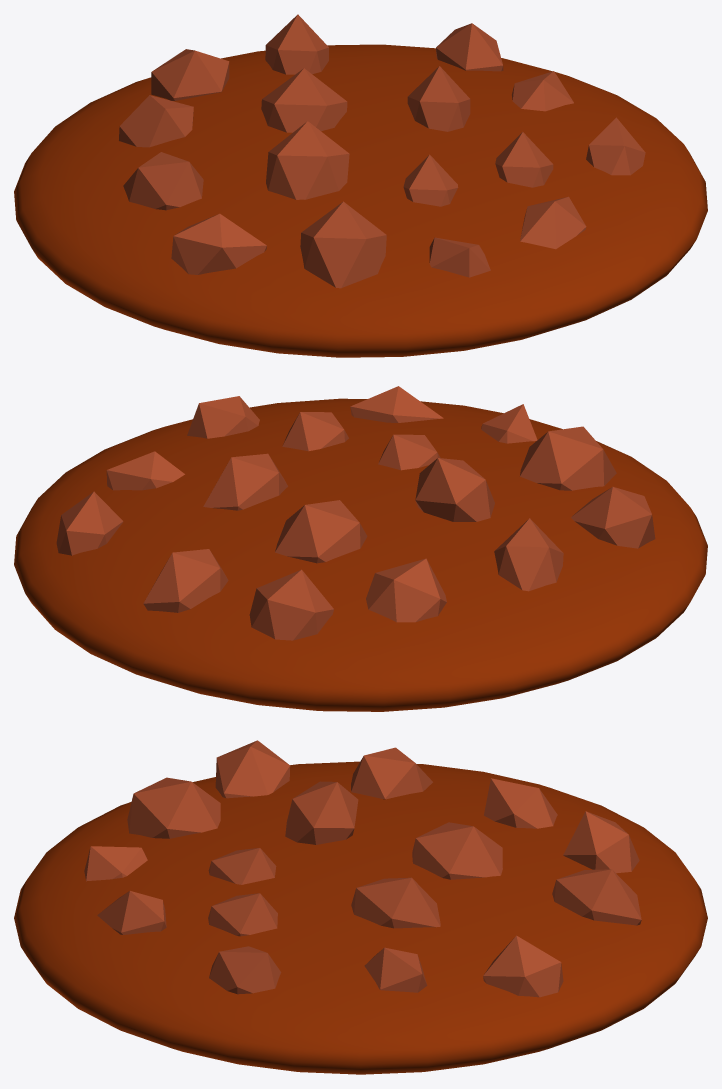
The model's file is 초콜릿쿠키 1.fbx.
3 views of the same model, one above another, from view 1: azimuth 30°, elevation 25°; view 2: azimuth 150°, elevation 25°; view 3: azimuth 270°, elevation 25° (orthographic).
Visible parts, largest first — view 1: 쿠키, 초콜릿1, 초콜릿2, 초콜릿2.003, 초콜릿3, 초콜릿2.001, 초콜릿2.004, 초콜릿2.002, 초콜릿6, 초콜릿4, 초콜릿12, 초콜릿11 (+5 smaller); view 2: 쿠키, 초콜릿1, 초콜릿2.004, 초콜릿3, 초콜릿2, 초콜릿2.002, 초콜릿4, 초콜릿2.003, 초콜릿2.001, 초콜릿6, 초콜릿11, 초콜릿9 (+5 smaller); view 3: 쿠키, 초콜릿1, 초콜릿3, 초콜릿2, 초콜릿4, 초콜릿6, 초콜릿11, 초콜릿2.003, 초콜릿2.004, 초콜릿2.001, 초콜릿2.002, 초콜릿9 (+5 smaller).
Part boxes in pixels (x1=…): 쿠키: x1=14, y1=44, x2=707, y2=357; 초콜릿1: x1=300, y1=201, x2=386, y2=288; 초콜릿2: x1=266, y1=121, x2=349, y2=199; 초콜릿2.003: x1=171, y1=213, x2=266, y2=274; 초콜릿3: x1=261, y1=68, x2=347, y2=132; 초콜릿2.001: x1=123, y1=152, x2=203, y2=210; 초콜릿2.004: x1=151, y1=49, x2=229, y2=100; 초콜릿2.002: x1=119, y1=95, x2=193, y2=147; 초콜릿6: x1=407, y1=66, x2=470, y2=131; 초콜릿4: x1=265, y1=14, x2=328, y2=74; 초콜릿12: x1=520, y1=196, x2=586, y2=249; 초콜릿11: x1=436, y1=23, x2=503, y2=71; 쿠키: x1=14, y1=398, x2=707, y2=711; 초콜릿1: x1=520, y1=426, x2=616, y2=490; 초콜릿2.004: x1=249, y1=569, x2=333, y2=640; 초콜릿3: x1=275, y1=500, x2=367, y2=563; 초콜릿2: x1=415, y1=458, x2=494, y2=521; 초콜릿2.002: x1=366, y1=558, x2=446, y2=622; 초콜릿4: x1=143, y1=549, x2=228, y2=612; 초콜릿2.003: x1=571, y1=487, x2=655, y2=548; 초콜릿2.001: x1=494, y1=518, x2=563, y2=591; 초콜릿6: x1=203, y1=453, x2=287, y2=510; 초콜릿11: x1=56, y1=491, x2=123, y2=555; 초콜릿9: x1=187, y1=396, x2=259, y2=438; 쿠키: x1=14, y1=761, x2=707, y2=1074; 초콜릿1: x1=127, y1=777, x2=220, y2=838; 초콜릿3: x1=412, y1=822, x2=502, y2=879; 초콜릿2: x1=285, y1=781, x2=358, y2=844; 초콜릿4: x1=552, y1=869, x2=641, y2=925; 초콜릿6: x1=351, y1=877, x2=440, y2=928; 초콜릿11: x1=483, y1=935, x2=563, y2=997; 초콜릿2.003: x1=215, y1=740, x2=290, y2=798; 초콜릿2.004: x1=563, y1=811, x2=639, y2=873; 초콜릿2.001: x1=351, y1=747, x2=432, y2=799; 초콜릿2.002: x1=484, y1=778, x2=557, y2=828; 초콜릿9: x1=209, y1=946, x2=281, y2=994.
Size of the model in its own units: 169 by 42.9 by 169.
